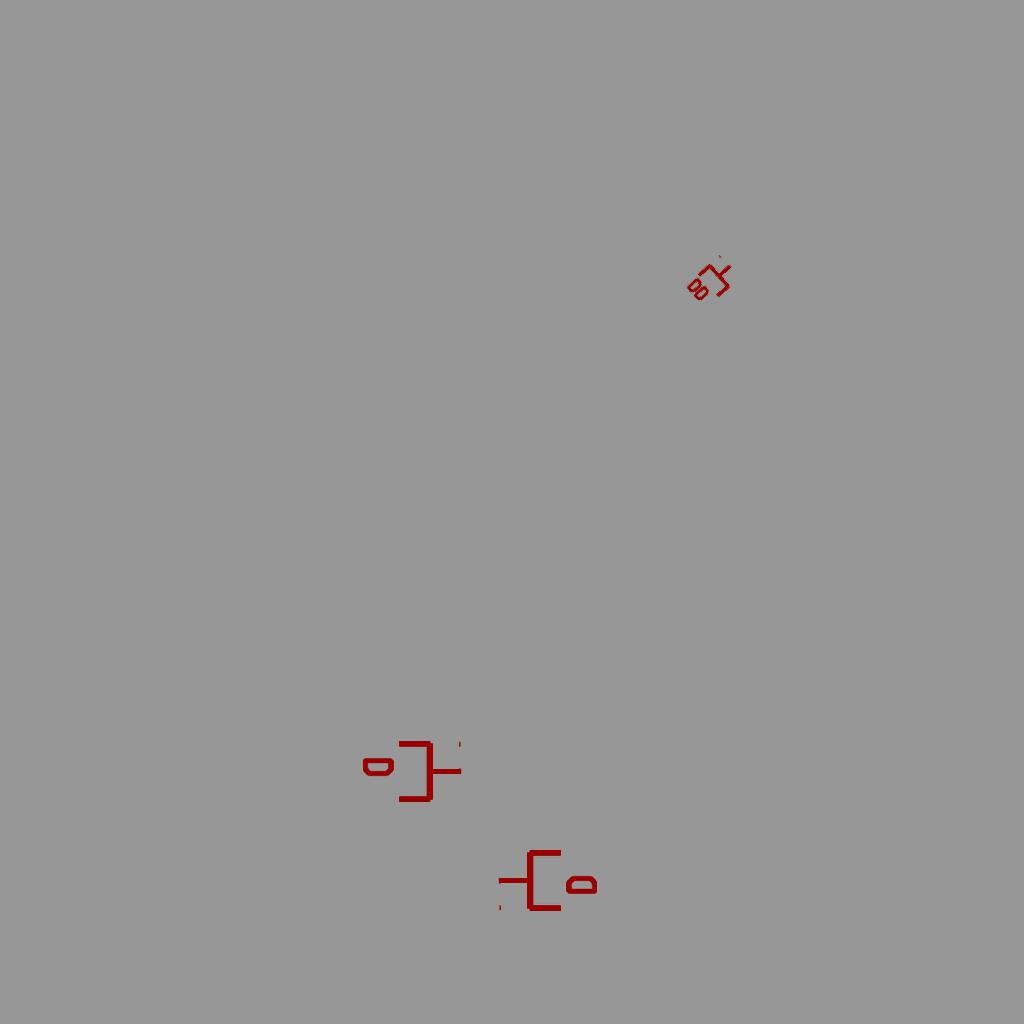Datenanschluss_einfach: (497, 846, 597, 915), (363, 737, 463, 806)
Datenanschluss_zweifach: (682, 252, 744, 313)
